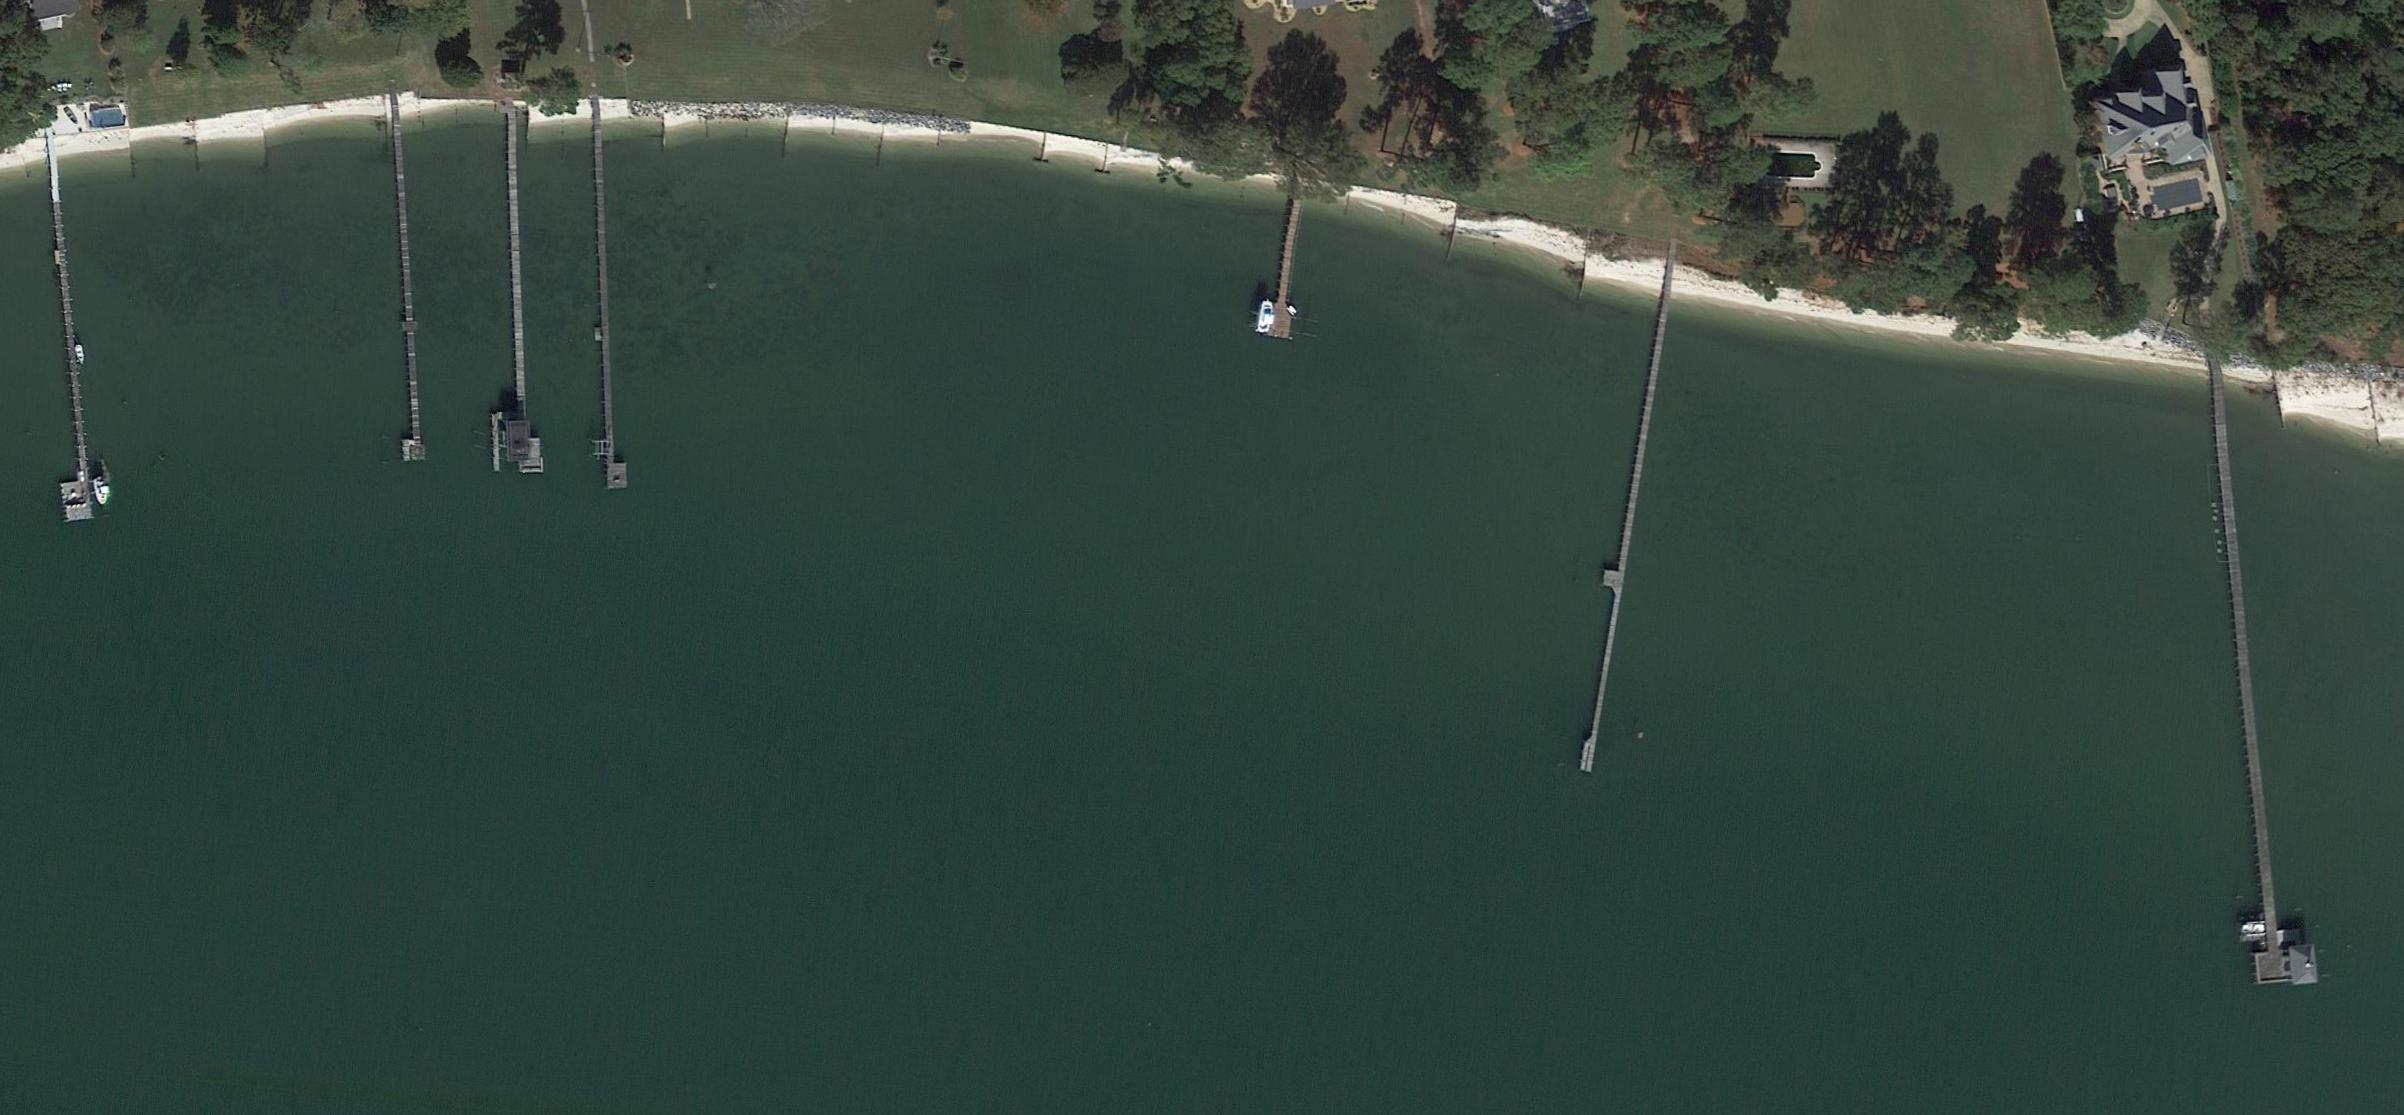harbor: (2205, 532, 2319, 993), (1569, 347, 1663, 775), (35, 165, 97, 524), (485, 128, 546, 478), (381, 129, 429, 463), (592, 140, 630, 490), (1260, 214, 1311, 340)
ship: (88, 456, 114, 508), (1255, 299, 1276, 333), (61, 104, 81, 126), (2239, 923, 2267, 935), (2073, 207, 2086, 224)
